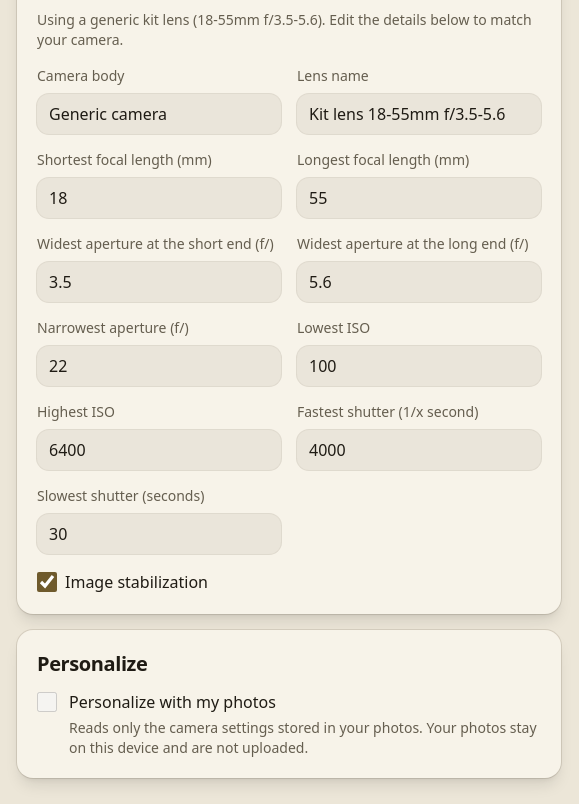
Test: App when storage is unavailable › says the gear will not be saved, and clears the notice once saving works again
(page scrolled)
Check: the text "will not be saved" is not shown
Replace the text in the number field labelled "Highest ISO" with "12800". click: (159, 450)
box: [37,430,281,470]
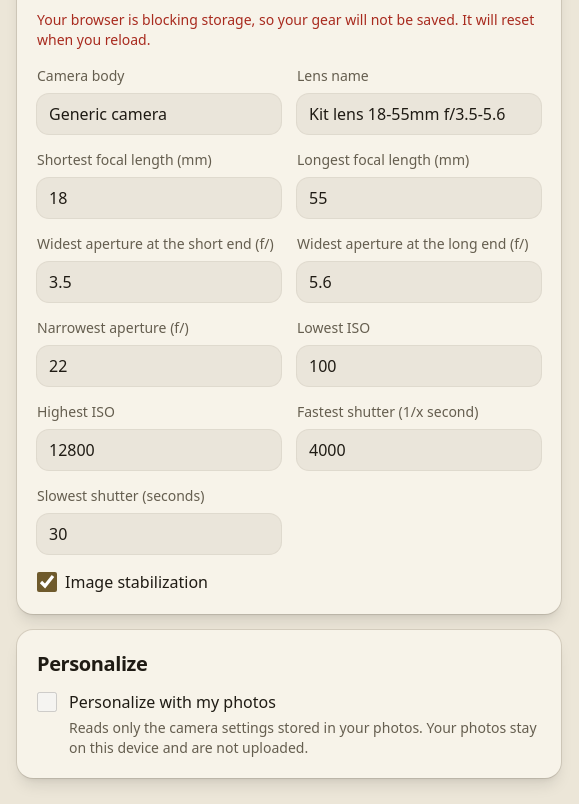
Check: the text "will not be saved" is shown, box [37,10,534,49]
Replace the text in the number field labelled "Highest ISO" with "6400". click: (159, 450)
box: [37,430,281,470]
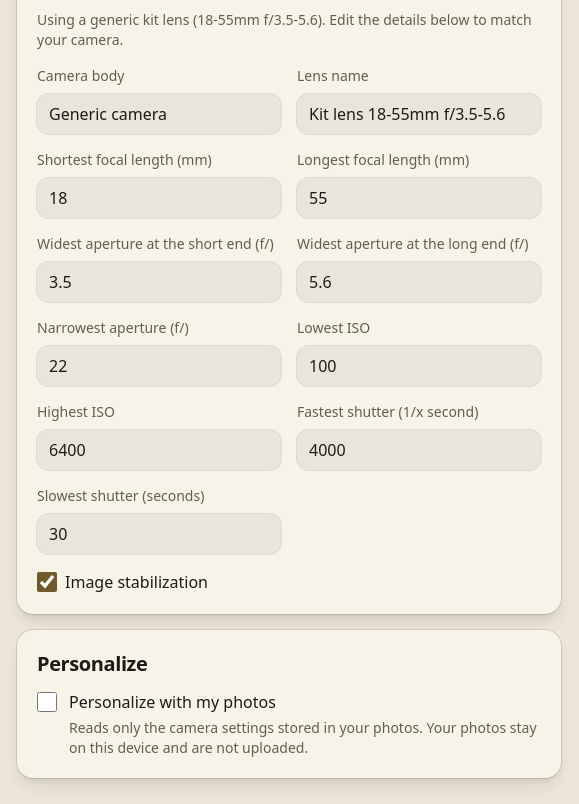
Check: the text "will not be saved" is gone
